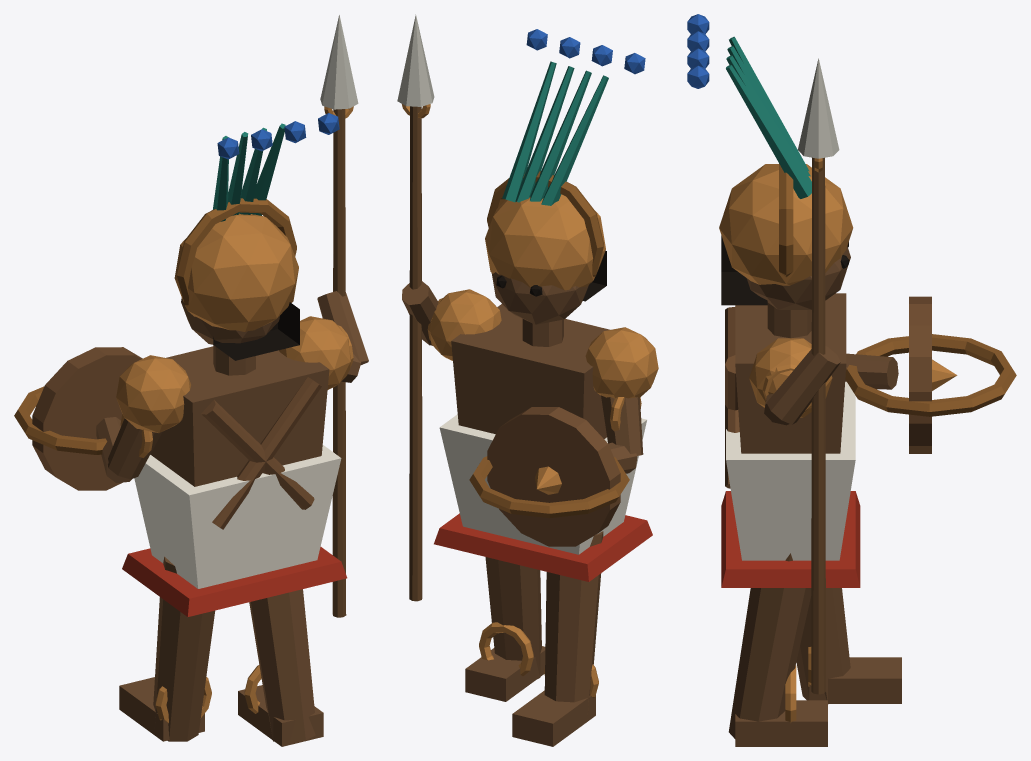
File: sangam_spearman.glb
3 views of the same model, side by side, from view 1: azimuth 30°, elevation 25°; view 2: azimuth 150°, elevation 25°; view 3: azimuth 270°, elevation 25° (orthographic). The views are drawn at different scales.
Parts seen in each view (by area): view 1: legL; view 2: legL; view 3: legL.
Boxes of the visible parts, left/top/right/bottom form: legL: left=14, top=15, right=368, bottom=746; legL: left=397, top=14, right=658, bottom=746; legL: left=687, top=14, right=1016, bottom=746.
Bounding box in the file's own units: 0.733 × 1.72 × 0.7118.
